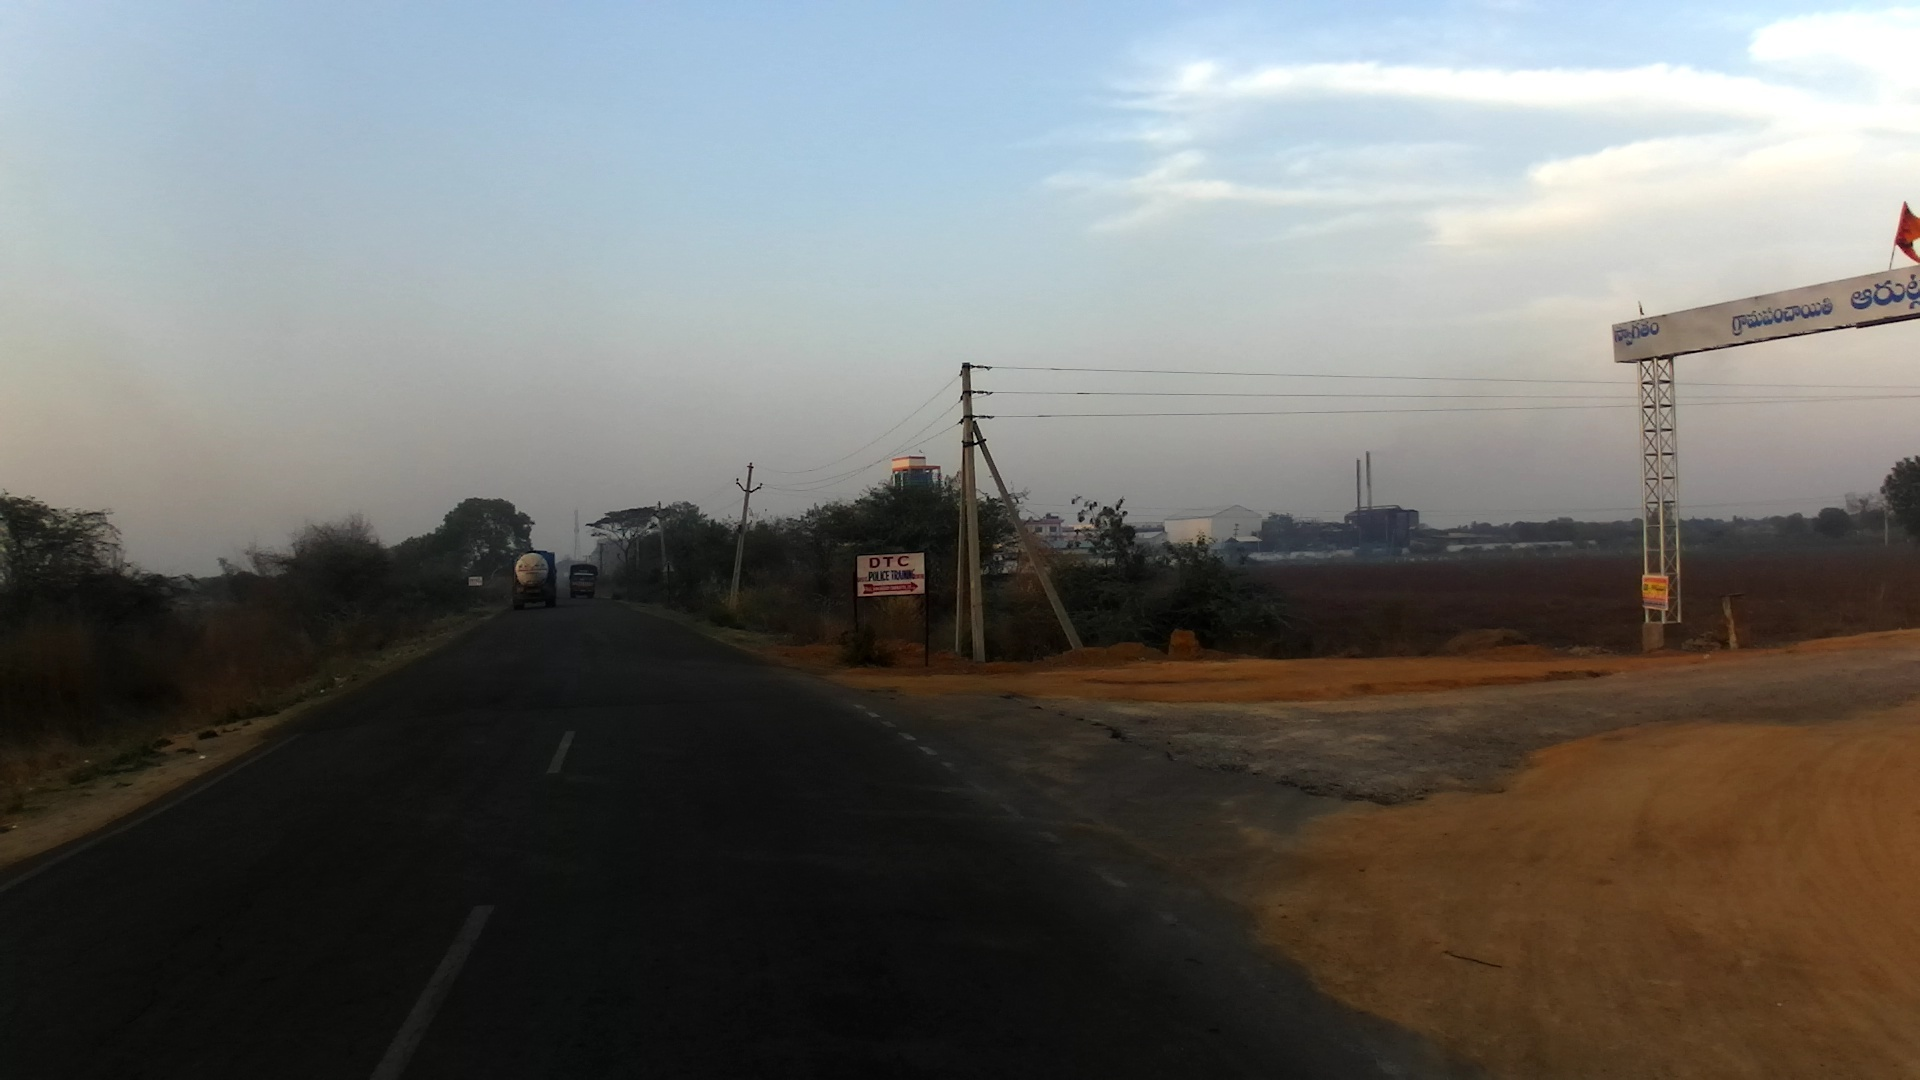truck: (508, 549, 558, 611), (566, 560, 604, 599)
